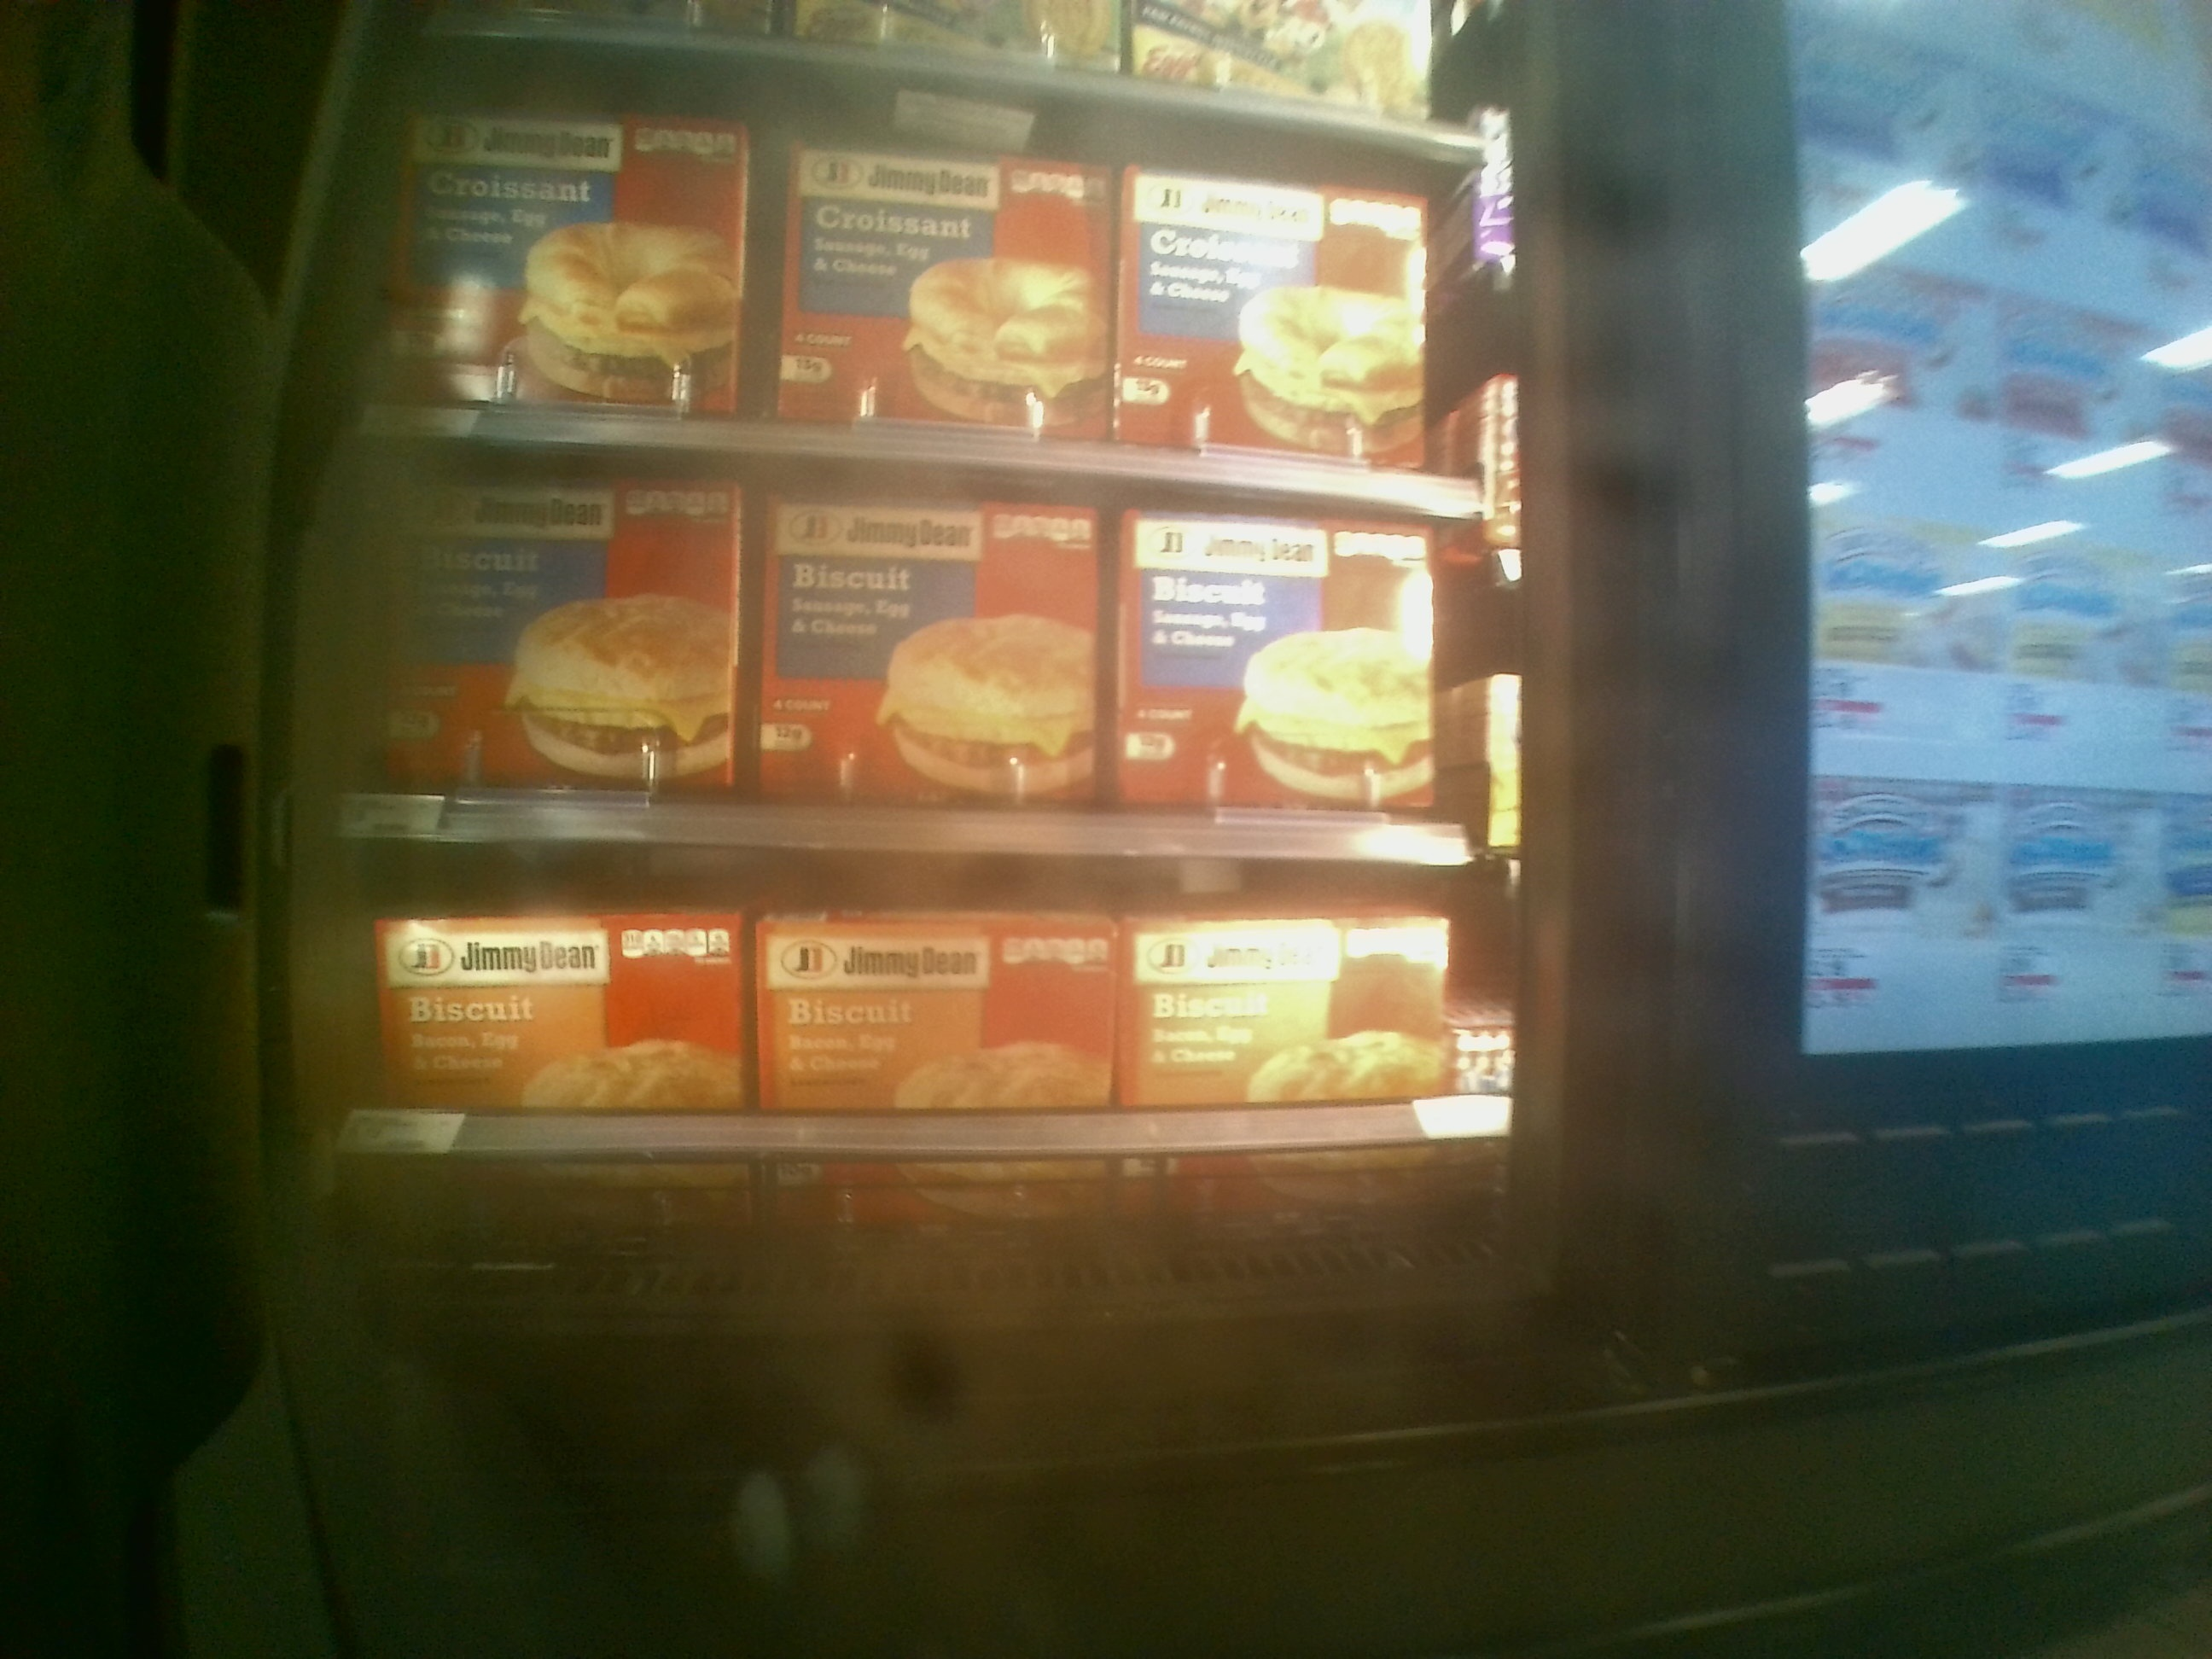shelf: (296, 439, 1475, 870), (340, 866, 1512, 1150)
